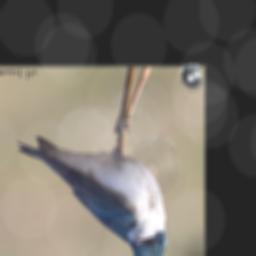Swallow: (16, 136, 168, 256)
